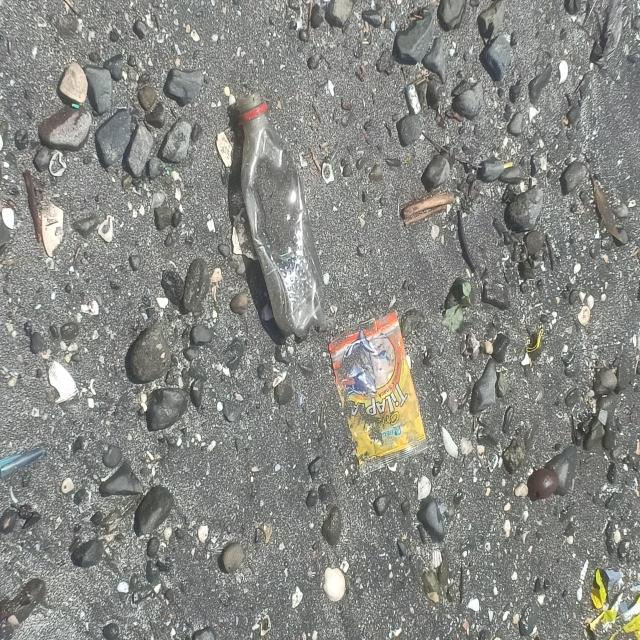plastic_waste: (237, 91, 328, 339), (329, 311, 429, 479)
